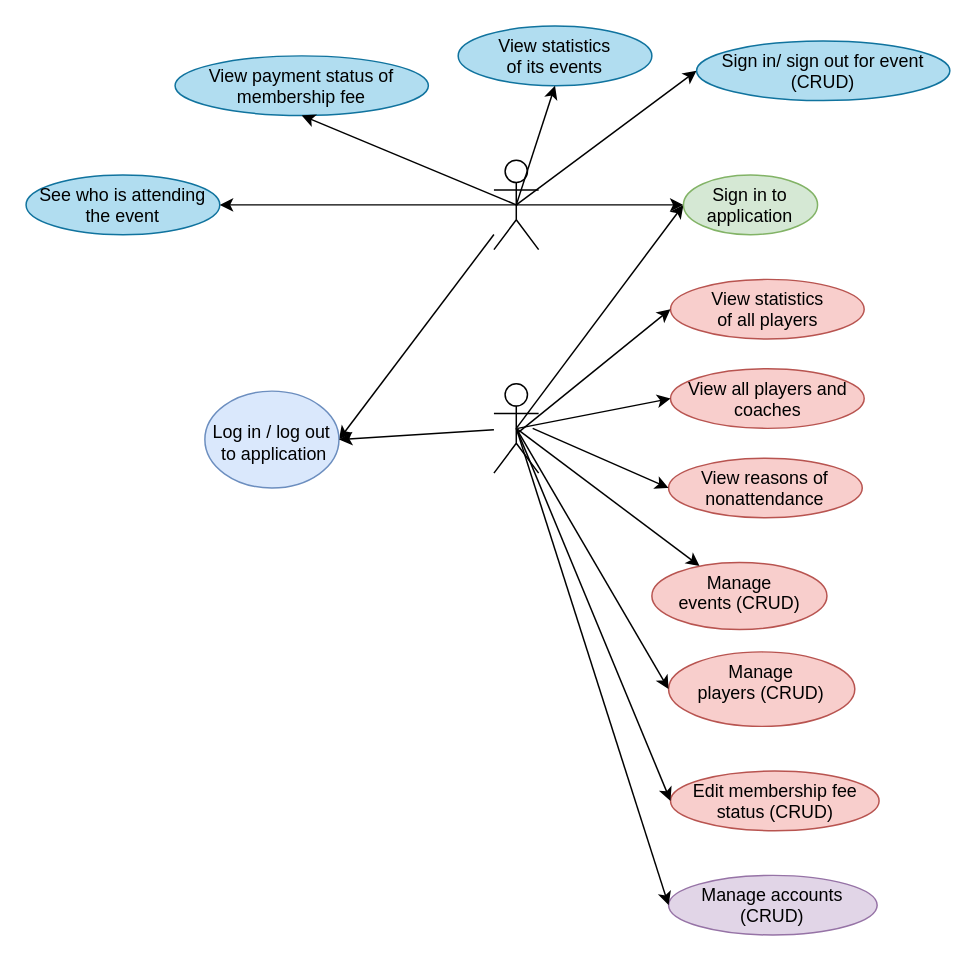
Some shapes in this 976 by 961 pixel diagram are drawn without their labels. The centre of each missing label's shape, as x and y in pixels:
"Coach" goes at point (515, 427).
"Player" goes at point (515, 204).
